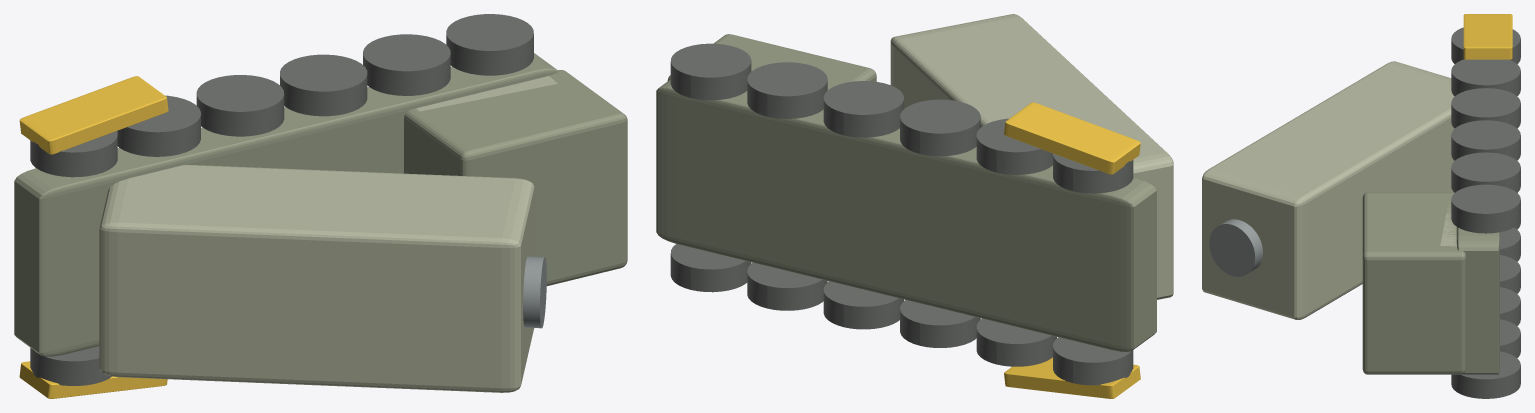
The model's file is v-x05-vanguard-strategic-lod1.glb.
The picture shows the model from 3 angles, left to right: view 1: azimuth 30°, elevation 25°; view 2: azimuth 150°, elevation 25°; view 3: azimuth 270°, elevation 25°; orthographic projection. The views are drawn at different scales.
Parts seen in each view (by area): view 1: strategic_canister, strategic_lower, strategic_cab, strategic_jack_1, strategic_wheel_1_2, strategic_wheel_1_3, strategic_wheel_1_4, strategic_wheel_1_5, strategic_wheel_1_1, strategic_wheel_1_0, strategic_wheel_-1_0, strategic_jack_-1 (+2 smaller); view 2: strategic_lower, strategic_canister, strategic_jack_1, strategic_wheel_1_5, strategic_wheel_1_4, strategic_wheel_1_2, strategic_wheel_1_3, strategic_wheel_-1_0, strategic_wheel_-1_5, strategic_wheel_-1_3, strategic_wheel_-1_1, strategic_wheel_-1_4 (+5 smaller); view 3: strategic_canister, strategic_cab, strategic_lower, strategic_wheel_1_5, strategic_missile, strategic_jack_1, strategic_wheel_1_4, strategic_wheel_1_3, strategic_wheel_1_2, strategic_wheel_1_1, strategic_wheel_-1_5, strategic_wheel_1_0 (+5 smaller).
Boxes of the visible parts, x1,y1,x2,y2 form: strategic_canister: [99, 164, 534, 392]; strategic_lower: [14, 53, 558, 356]; strategic_cab: [404, 70, 627, 285]; strategic_jack_1: [19, 76, 168, 154]; strategic_wheel_1_2: [196, 75, 284, 136]; strategic_wheel_1_3: [280, 54, 367, 116]; strategic_wheel_1_4: [363, 34, 450, 95]; strategic_wheel_1_5: [446, 14, 533, 75]; strategic_wheel_1_1: [117, 95, 200, 156]; strategic_wheel_1_0: [30, 131, 117, 177]; strategic_wheel_-1_0: [30, 346, 111, 385]; strategic_jack_-1: [19, 361, 167, 398]; strategic_lower: [656, 79, 1156, 351]; strategic_canister: [890, 14, 1173, 299]; strategic_jack_1: [1004, 102, 1140, 174]; strategic_wheel_1_5: [670, 43, 751, 100]; strategic_wheel_1_4: [747, 62, 827, 118]; strategic_wheel_1_2: [900, 99, 980, 156]; strategic_wheel_1_3: [823, 81, 903, 137]; strategic_wheel_-1_0: [1053, 337, 1133, 385]; strategic_wheel_-1_5: [670, 244, 751, 292]; strategic_wheel_-1_3: [823, 281, 903, 329]; strategic_wheel_-1_1: [976, 318, 1056, 366]; strategic_wheel_-1_4: [747, 262, 827, 310]; strategic_canister: [1202, 61, 1454, 319]; strategic_cab: [1362, 192, 1466, 374]; strategic_lower: [1456, 227, 1499, 374]; strategic_wheel_1_5: [1451, 184, 1520, 233]; strategic_missile: [1209, 219, 1262, 276]; strategic_jack_1: [1463, 14, 1512, 59]; strategic_wheel_1_4: [1451, 152, 1520, 192]; strategic_wheel_1_3: [1451, 120, 1520, 160]; strategic_wheel_1_2: [1451, 88, 1520, 128]; strategic_wheel_1_1: [1451, 59, 1520, 96]; strategic_wheel_-1_5: [1451, 351, 1520, 398]; strategic_wheel_1_0: [1451, 27, 1520, 64].
Size of what is drawn, in the model's own units: 11.37 by 5.9 by 7.47.
